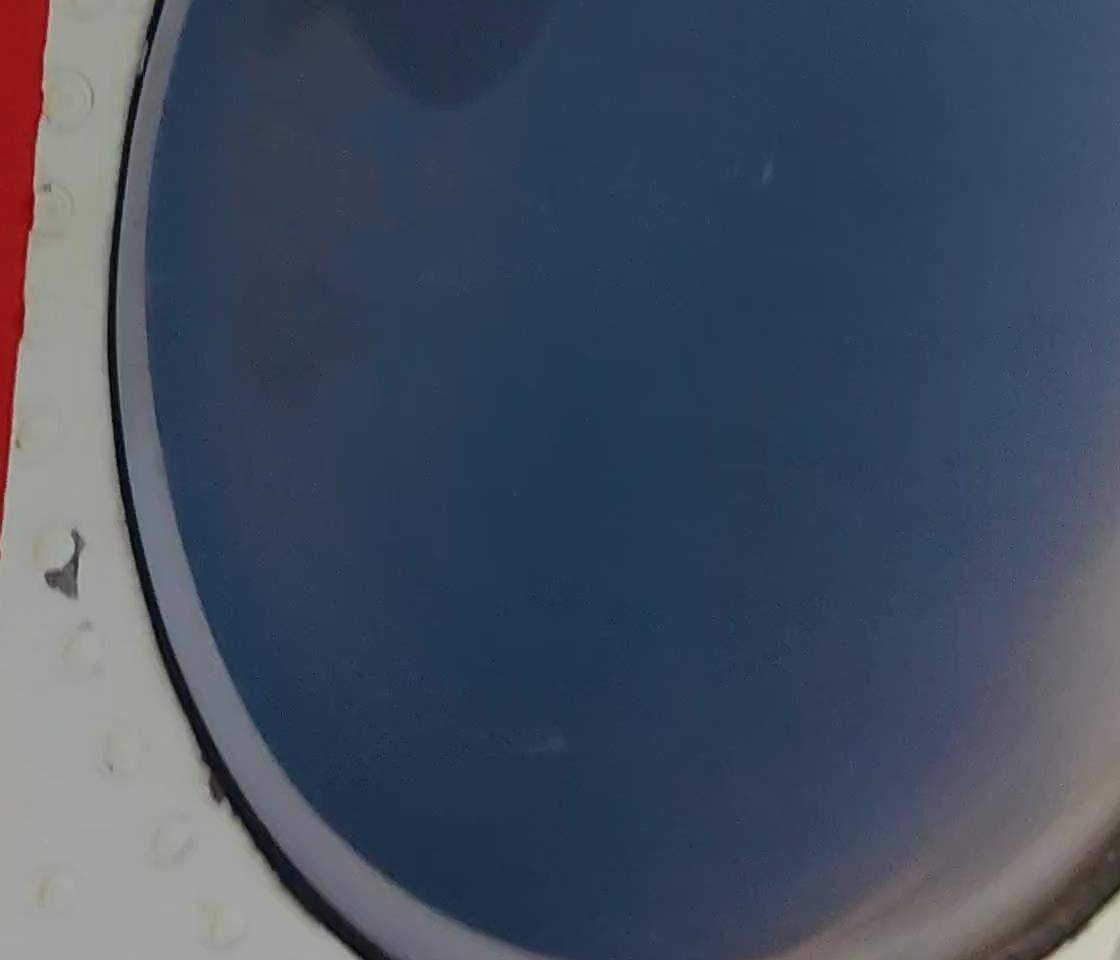paint_peel: (40, 525, 96, 608)
